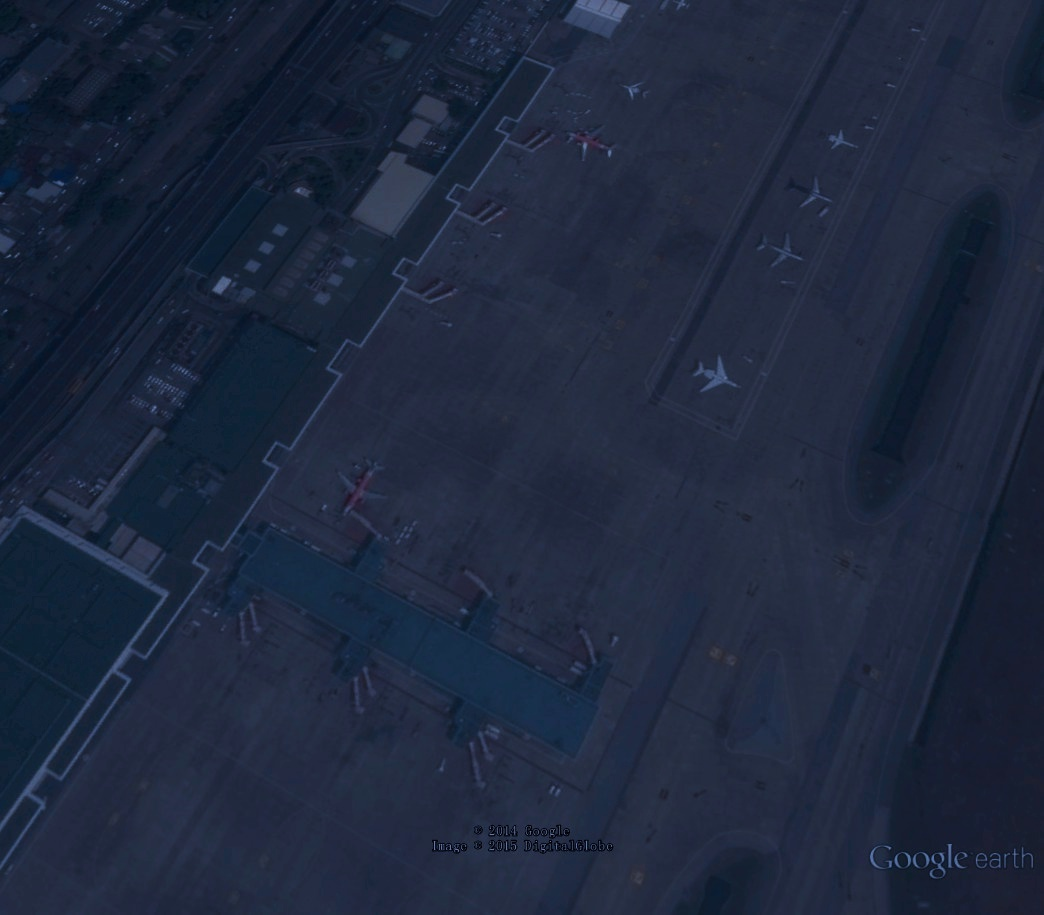aircraft: (328, 454, 393, 520), (687, 348, 747, 396), (562, 121, 621, 166), (780, 169, 838, 213), (751, 229, 808, 270), (816, 124, 862, 156), (613, 76, 652, 105)
